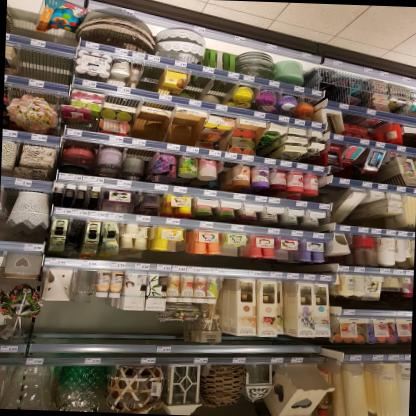empty_space: (17, 58, 73, 79), (11, 0, 42, 32), (168, 115, 201, 144), (134, 115, 167, 139), (209, 82, 238, 104), (140, 69, 166, 91), (185, 78, 211, 97), (322, 185, 347, 204), (344, 114, 379, 125)
